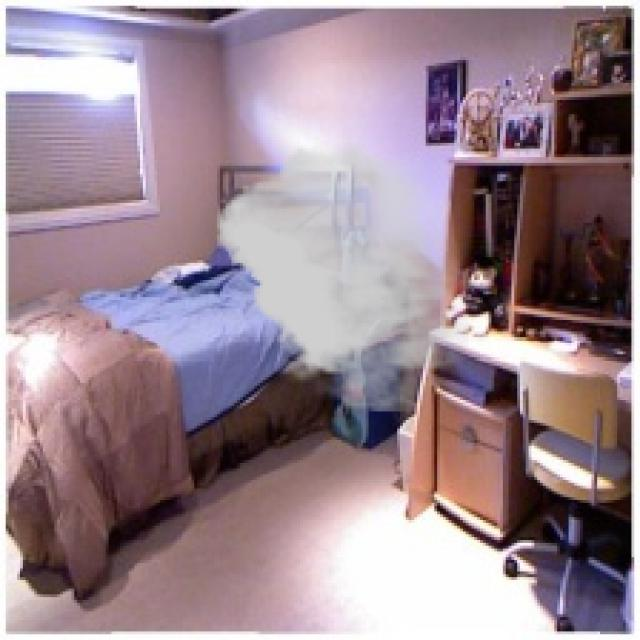smoke: (217, 143, 469, 411)
